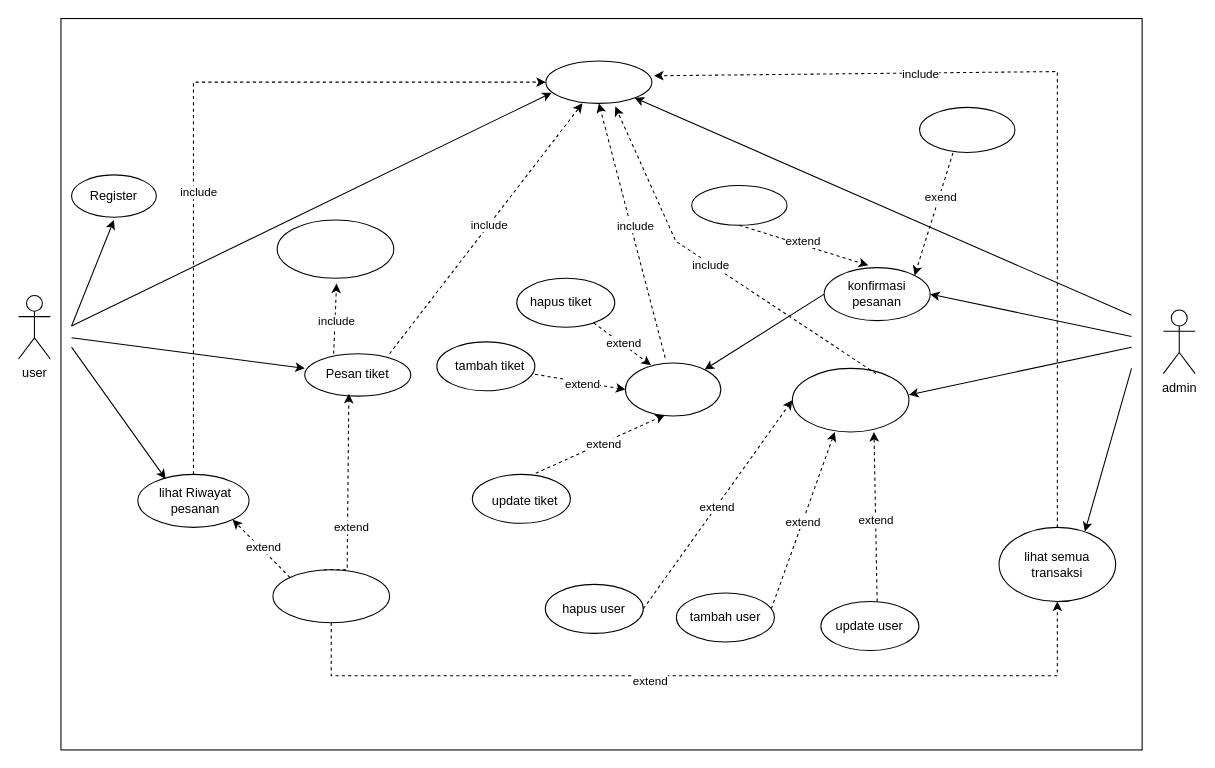
Image size: 1215x768. Some labels were removed from this diagram. Here are the shapes that lost their labels. From the top down, the box of each, then its label:
(545, 60, 652, 103): login
(918, 106, 1015, 152): setujui pembayaran
(691, 184, 787, 225): setujui pesanan
(276, 219, 394, 278): pilih tiket
(624, 362, 721, 416): kelola tiket
(791, 367, 909, 432): lihat semua user
(272, 569, 390, 623): Cetak struk
